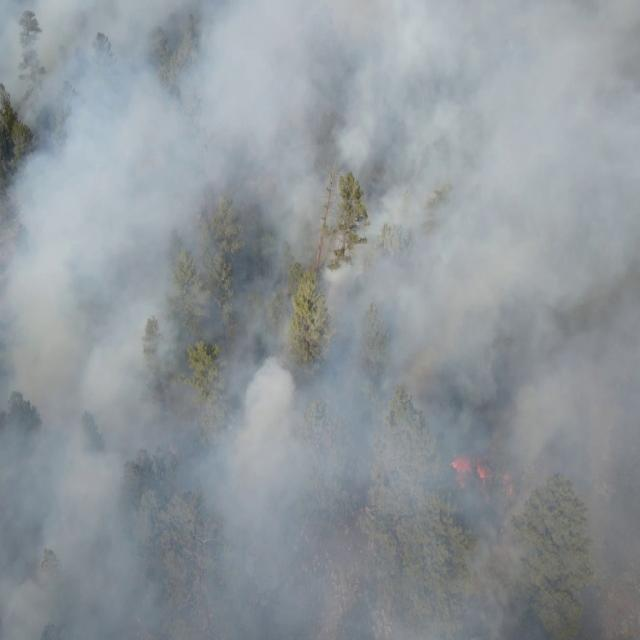fire: (450, 454, 486, 494), (498, 471, 516, 500)
smoke: (2, 0, 640, 640)
